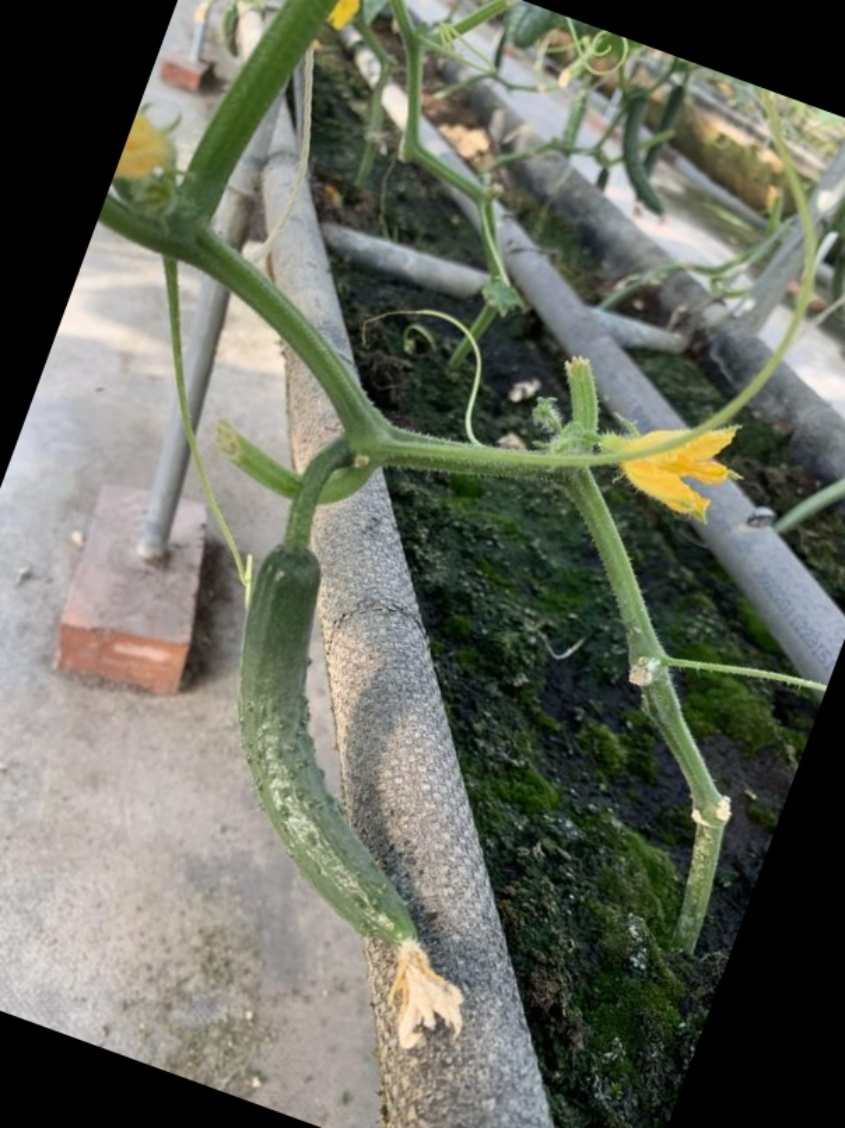bud: (620, 411, 745, 530)
